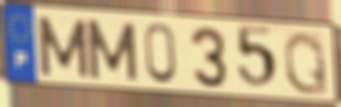0: (142, 21, 179, 86)
3: (188, 24, 229, 89)
5: (234, 24, 280, 95)
M: (34, 14, 92, 81), (83, 17, 141, 84)
Q: (281, 28, 330, 97)
